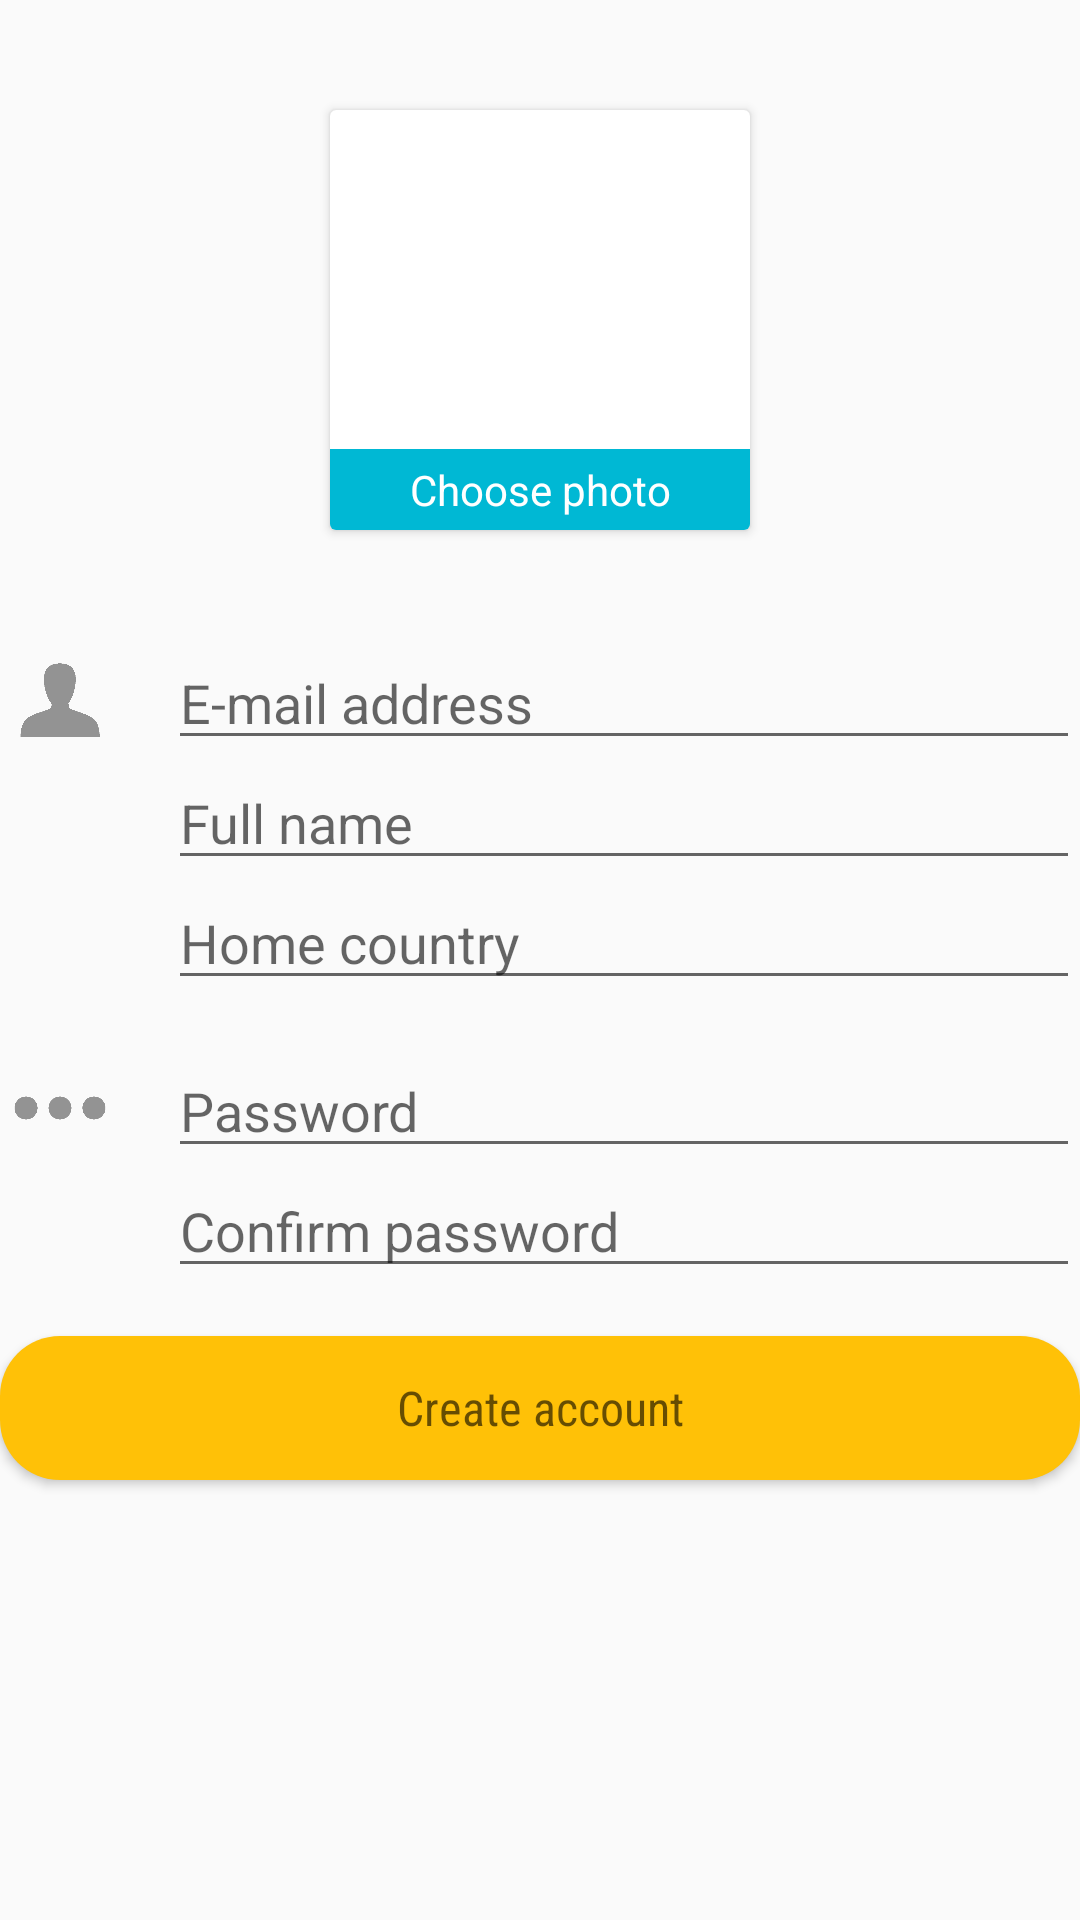

Icons on this 1080px×1920px Android screen, each with the point to tap as [x,y]:
user: [60,700]
